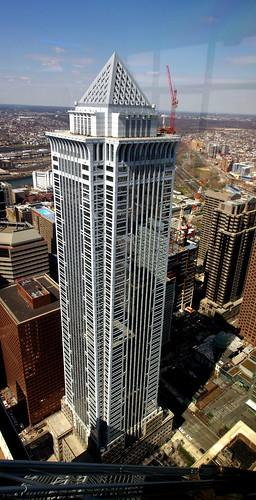building: (44, 47, 182, 458)
